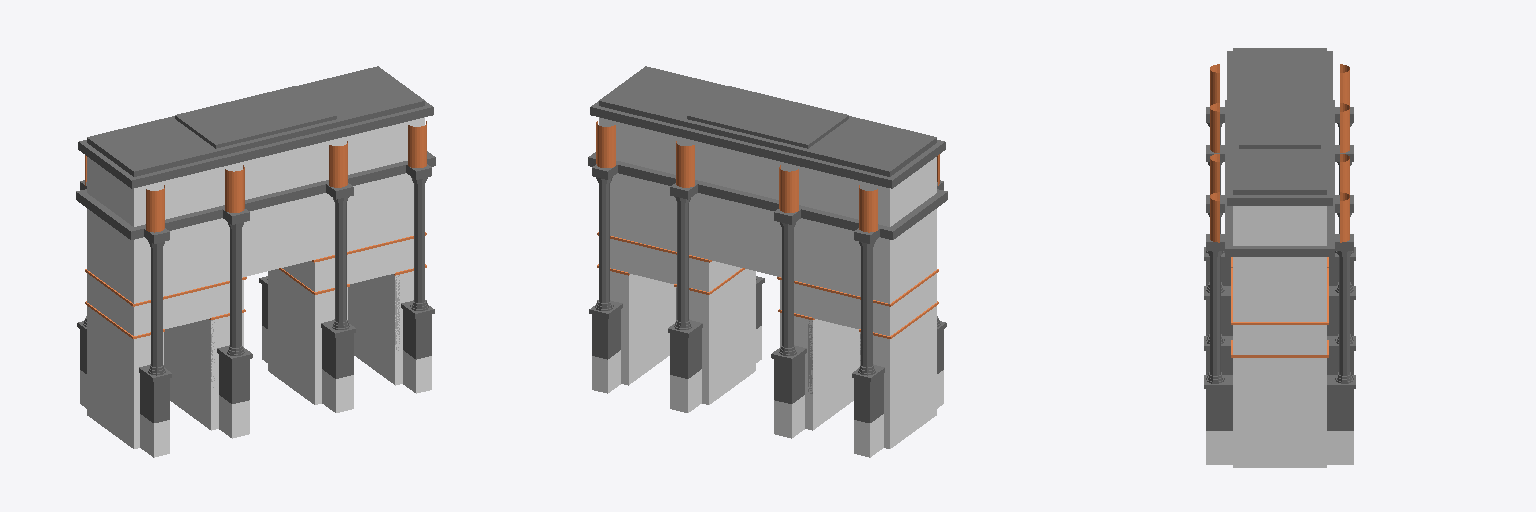
The model's file is Triumphbogen.obj.
The picture shows the model from 3 angles: view 1: azimuth 30°, elevation 25°; view 2: azimuth 150°, elevation 25°; view 3: azimuth 270°, elevation 25°; orthographic projection.
Size of the model in its own units: 579 by 510 by 249.